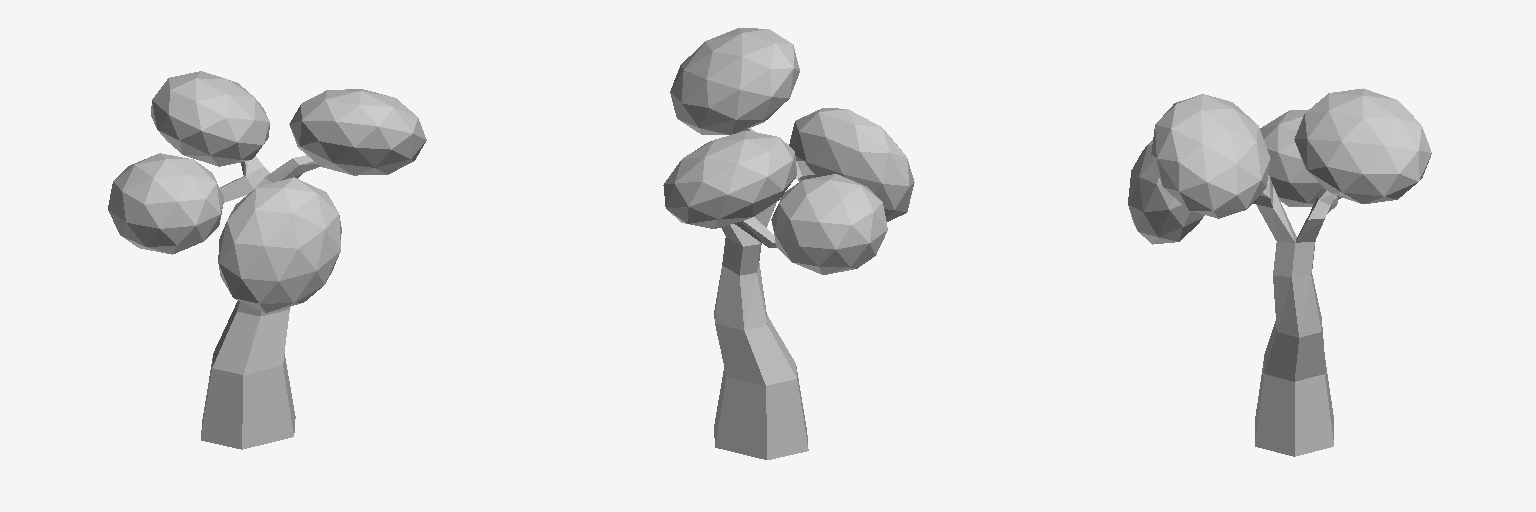
Rendered from Tree2.obj.
3 views of the same model, side by side, from view 1: azimuth 30°, elevation 25°; view 2: azimuth 150°, elevation 25°; view 3: azimuth 270°, elevation 25° (orthographic).
Visible parts, largest first — view 1: FullTree_Cube.003; view 2: FullTree_Cube.003; view 3: FullTree_Cube.003.
Boxes of the visible parts, x1,y1,x2,y2 form: FullTree_Cube.003: [108, 71, 426, 449]; FullTree_Cube.003: [663, 28, 914, 459]; FullTree_Cube.003: [1128, 88, 1431, 456].
Bounding box in the file's own units: 7.52 × 10.24 × 7.93.